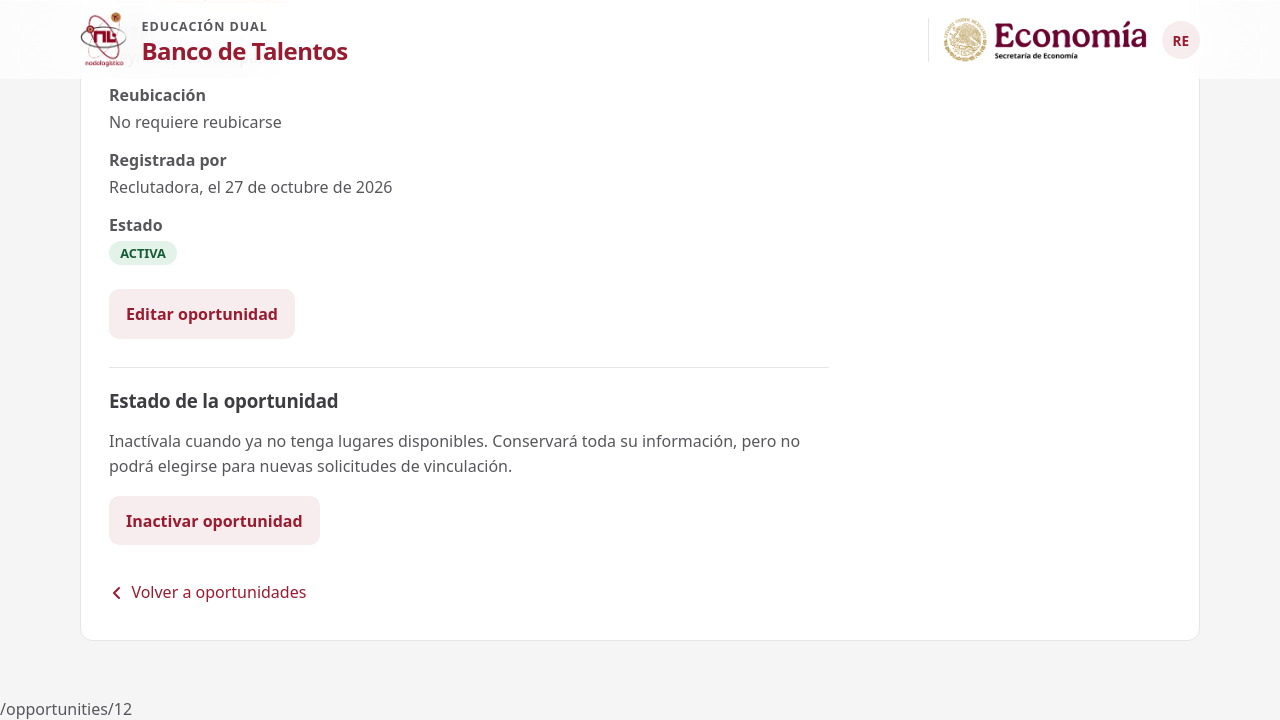
Test: oportunidades duales HU-S5-02 › estado HU-S5-03 › cancelar la confirmación no cambia nada; inactivar pide confirmación y reactivar no (CA-04)
(page scrolled)
expect the text "no podrá elegirse para nuevas solicitudes de vinculación" is shown: met, box [109,430,800,477]
Click the button "Inactivar oportunidad".
click(214, 520)  # box [109,496,320,545]
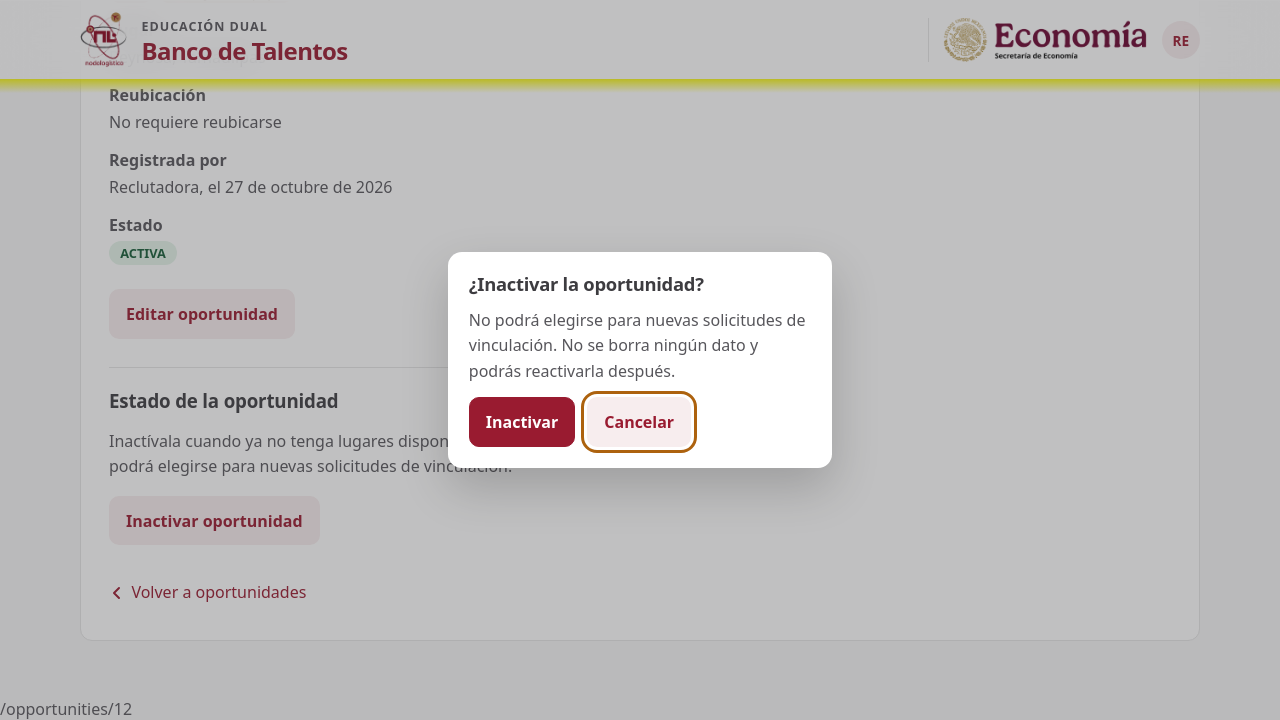
Click the button "Cancelar".
click(639, 422)  # box [587,397,691,447]
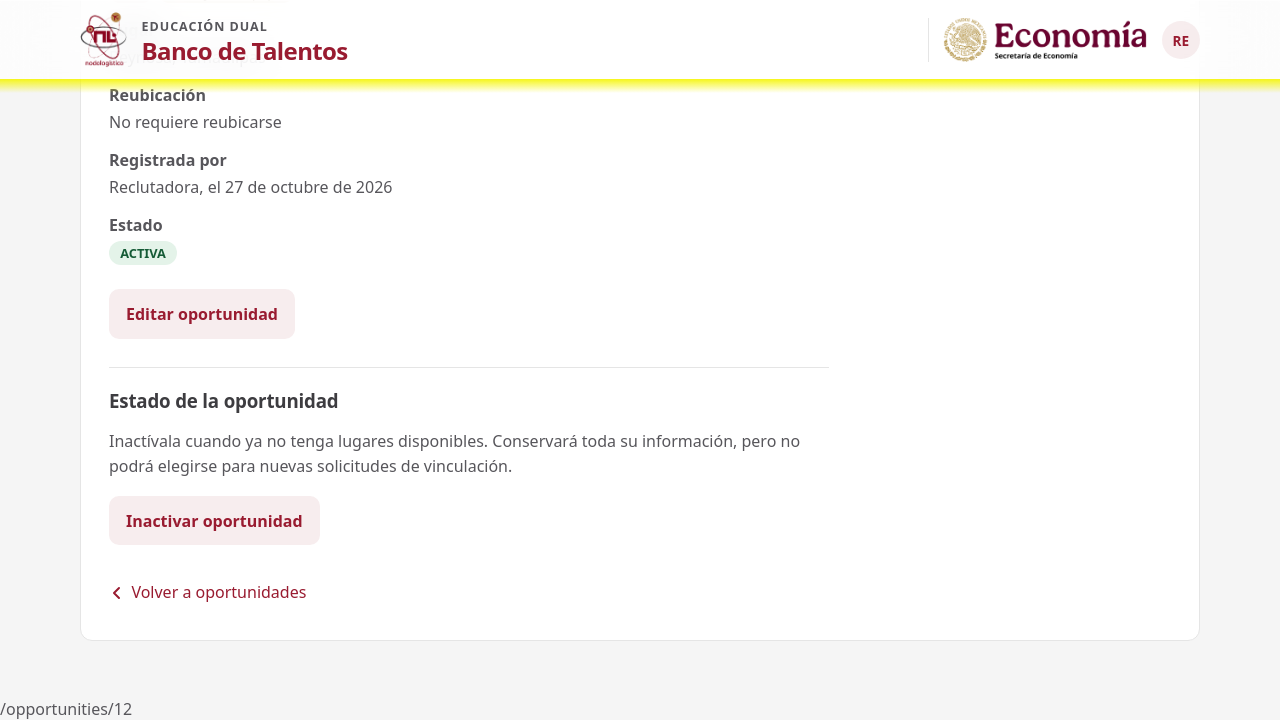
expect the dialog is gone: met
Click the button "Inactivar oportunidad".
click(214, 520)  # box [109,496,320,545]
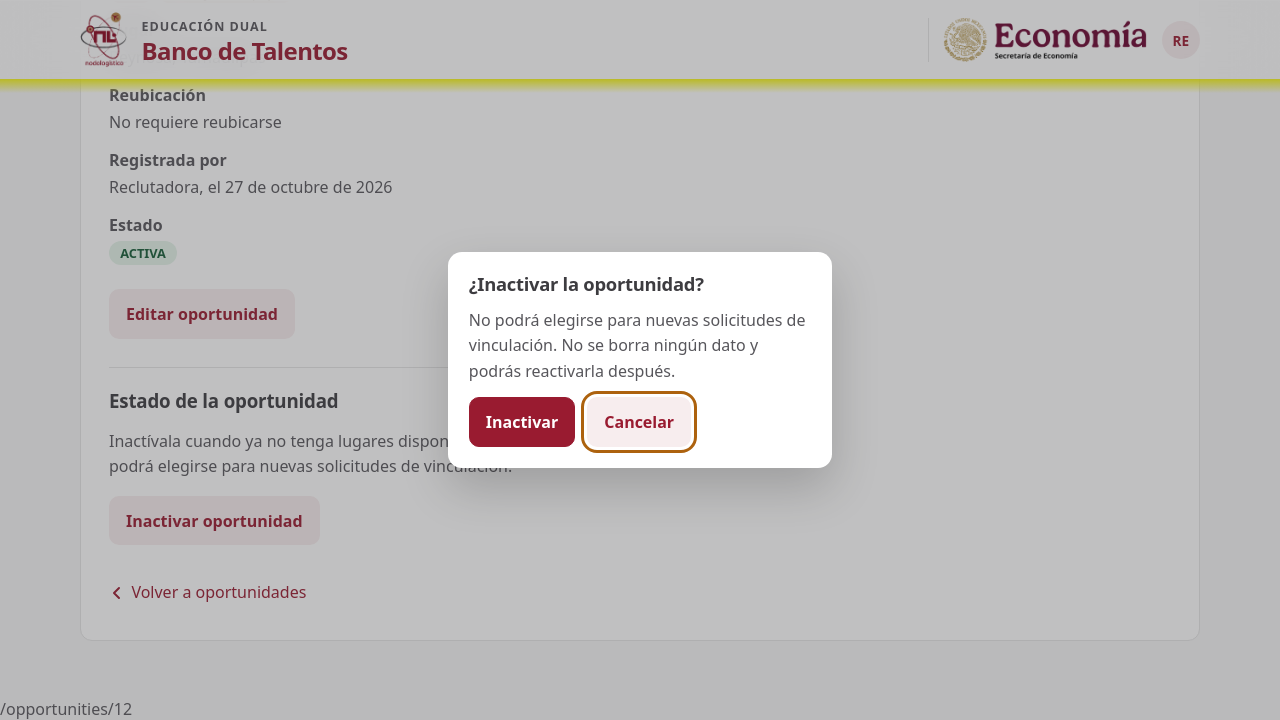
Click the button "Inactivar".
click(522, 422)  # box [469,397,575,447]
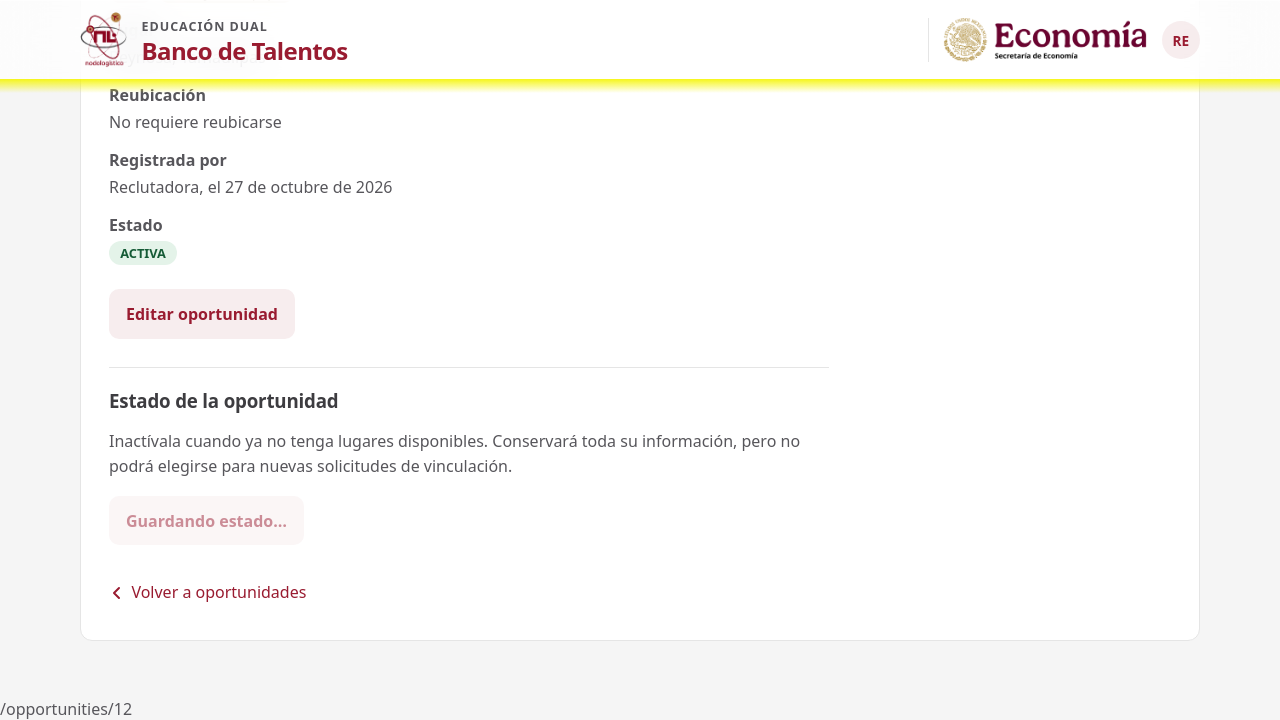
expect the button "Guardando estado…" is disabled: met
Click the button "Guardando estado…".
click(206, 520)  # box [109,496,304,545]
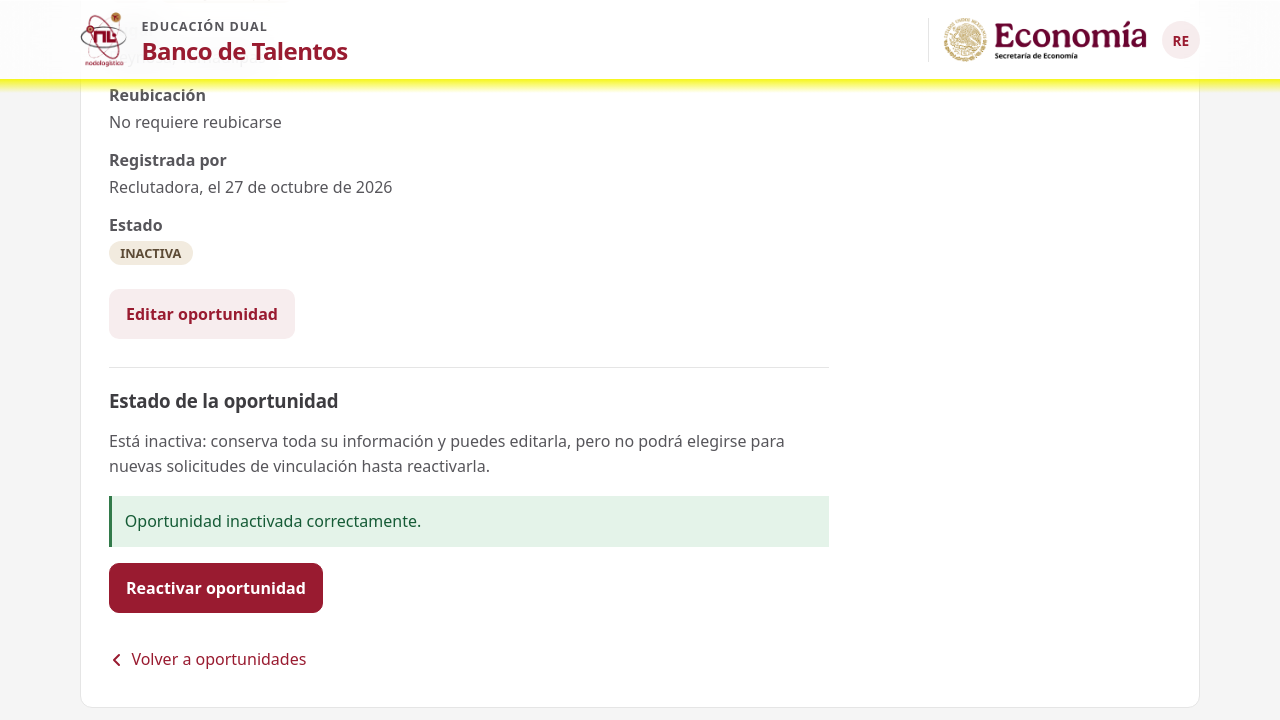
expect the text "INACTIVA" is shown: met, box [109,241,192,265]
expect the text "Está inactiva: conserva toda su información" is shown: met, box [109,430,785,477]
Click the button "Reactivar oportunidad".
click(216, 588)  # box [109,563,323,612]
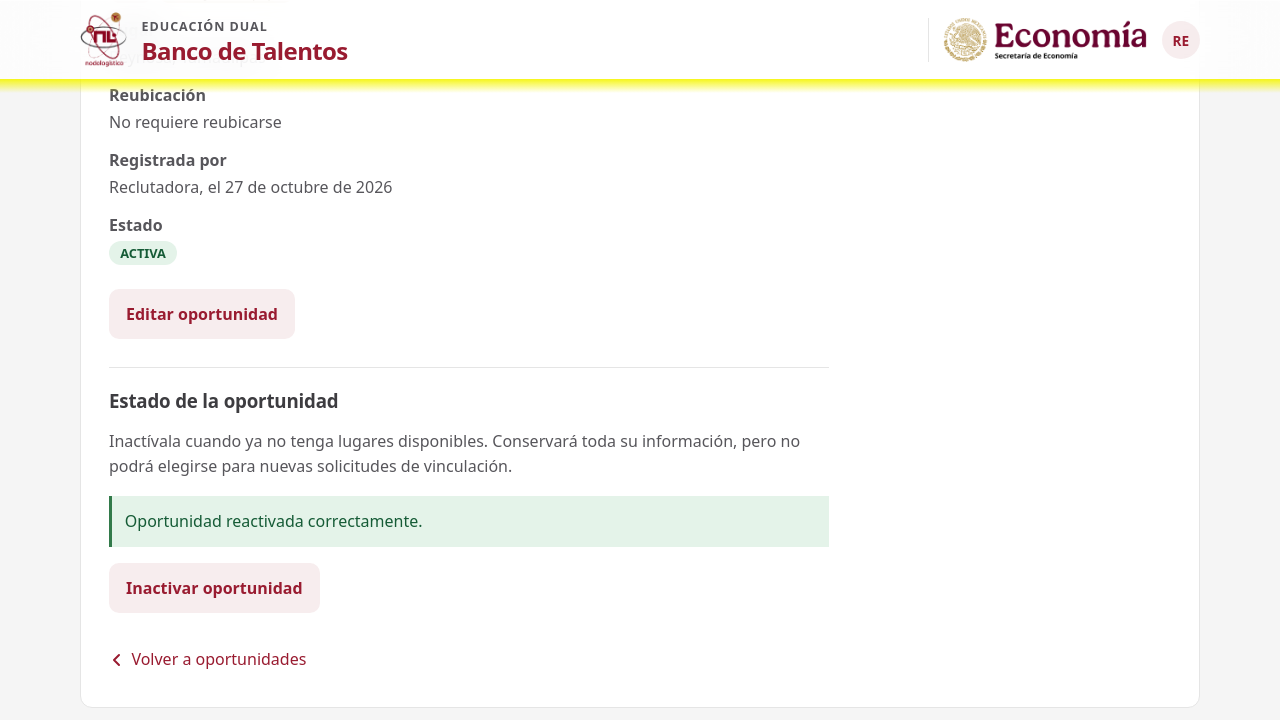
expect the text "ACTIVA" is shown: met, box [109,241,177,265]
expect the text "Oportunidad reactivada correctamente." is shown: met, box [109,496,829,547]
